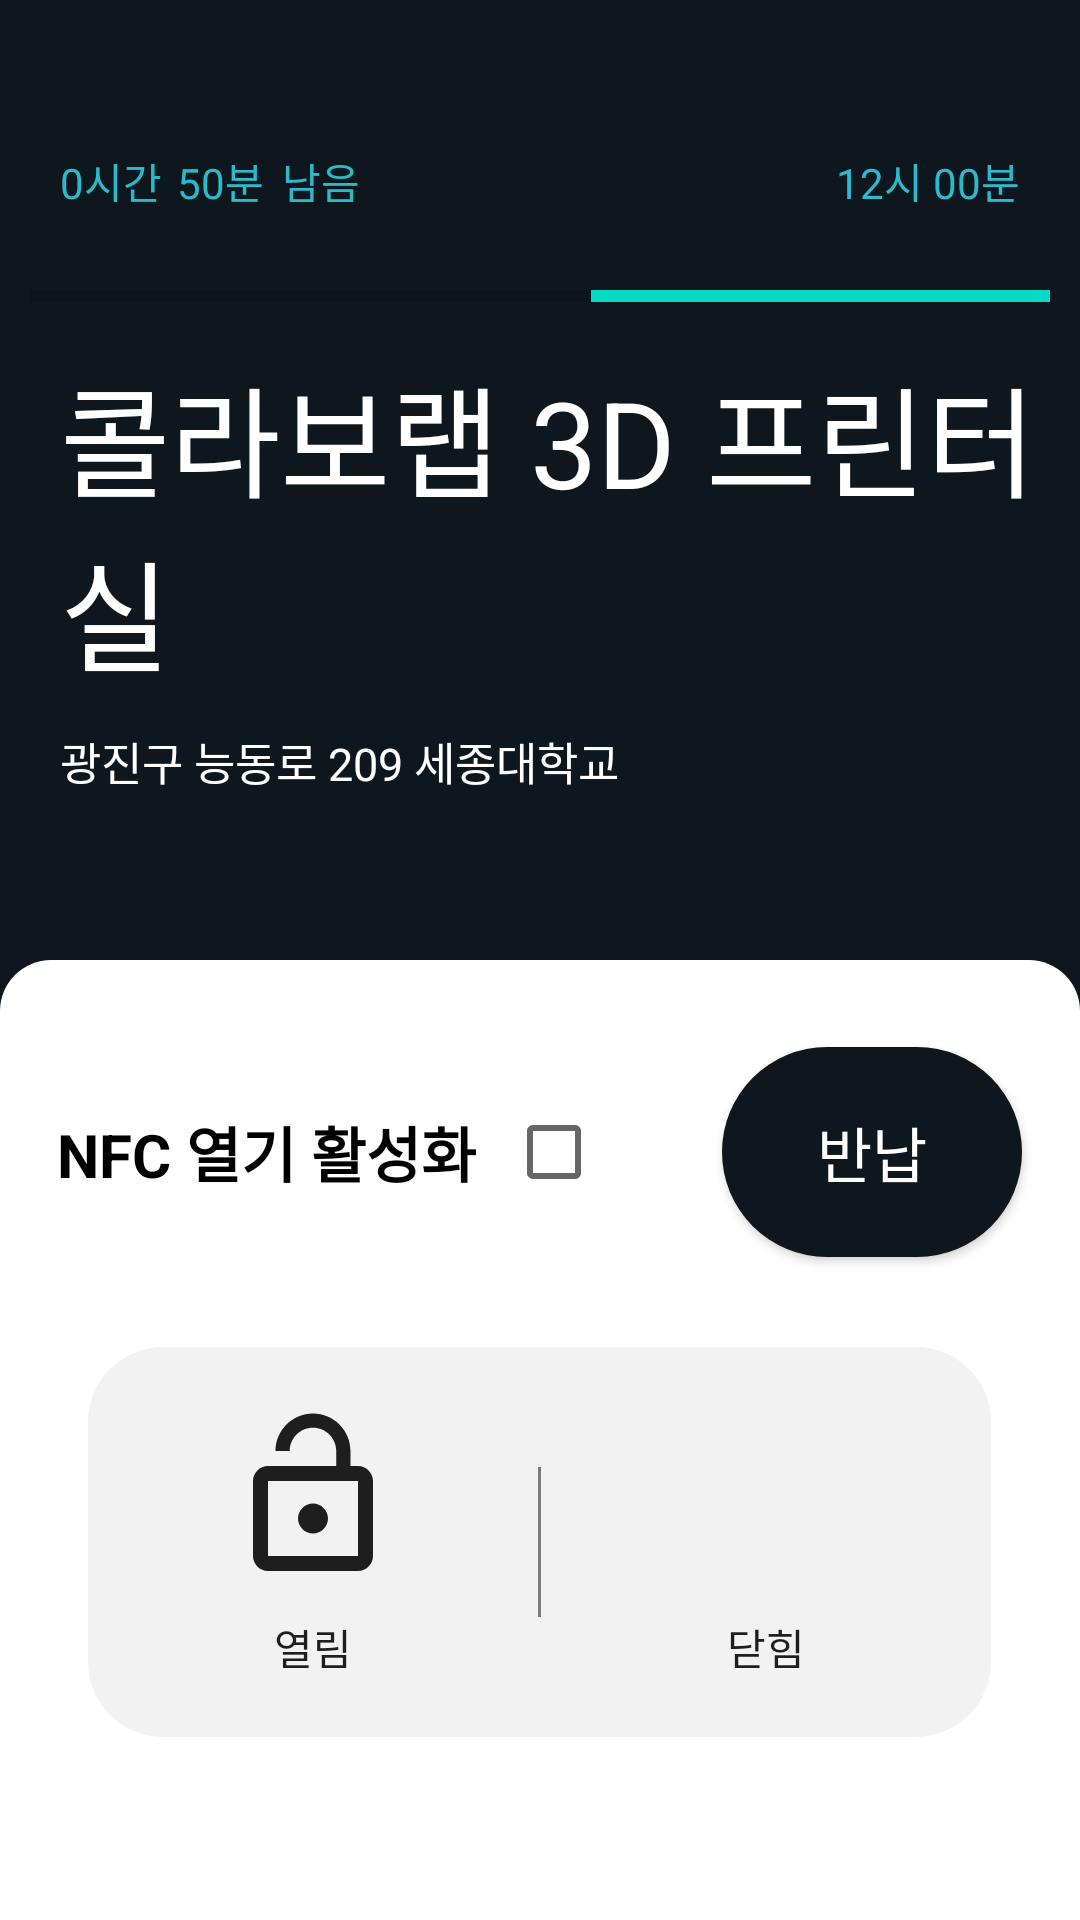

Where to tap for icons on this 1080×1920 app screen, as (x=x, y=y):
lock open: (x=313, y=1492)
